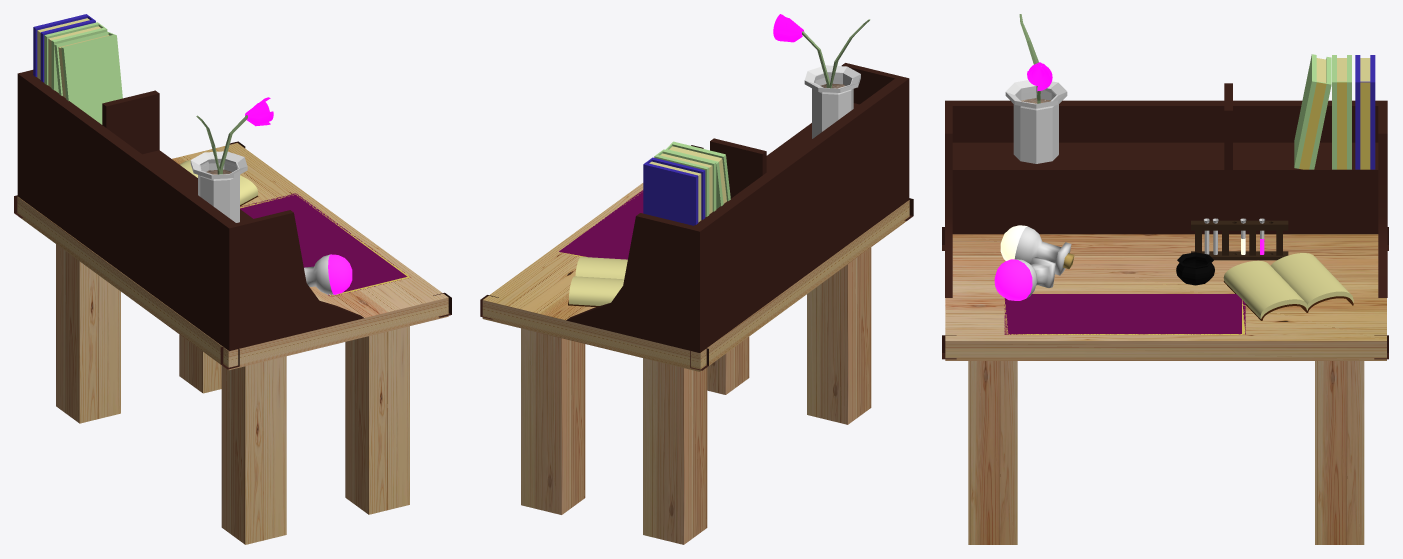
The model's file is 実験台ソリッド後.fbx.
3 views of the same model, side by side, from view 1: azimuth 30°, elevation 25°; view 2: azimuth 150°, elevation 25°; view 3: azimuth 270°, elevation 25° (orthographic). The views are drawn at different scales.
Parts seen in each view (by area): view 1: 机, 壁, 本２, 布, 花瓶, 瓶, 花; view 2: 机, 壁, 本２, 布, 花瓶, 本, 花; view 3: 机, 壁, 布, 本２, 本, 花瓶, 薬台, 瓶, 瓶２, 容器, 花, 試験管.
Part boxes in pixels (x1,y1,x2,y2): 机: (17,143,448,544); 壁: (17,70,364,351); 本２: (33,14,122,124); 布: (240,193,411,296); 花瓶: (190,151,247,222); 瓶: (304,254,352,294); 花: (196,97,273,174); 机: (482,183,909,544); 壁: (566,63,909,352); 本２: (643,141,730,225); 布: (559,190,643,259); 花瓶: (804,65,860,138); 本: (568,257,627,306); 花: (773,14,870,88); 机: (945,234,1386,544); 壁: (945,83,1387,297); 布: (1004,294,1245,334); 本２: (1294,54,1375,169); 本: (1223,253,1353,320); 花瓶: (1005,80,1067,163); 薬台: (1191,220,1288,260); 瓶: (994,257,1055,300); 瓶２: (1000,225,1074,275); 容器: (1176,252,1214,285); 花: (1019,14,1052,103); 試験管: (1204,218,1264,254).
Size of the model in its own units: 556 by 988 by 919.
